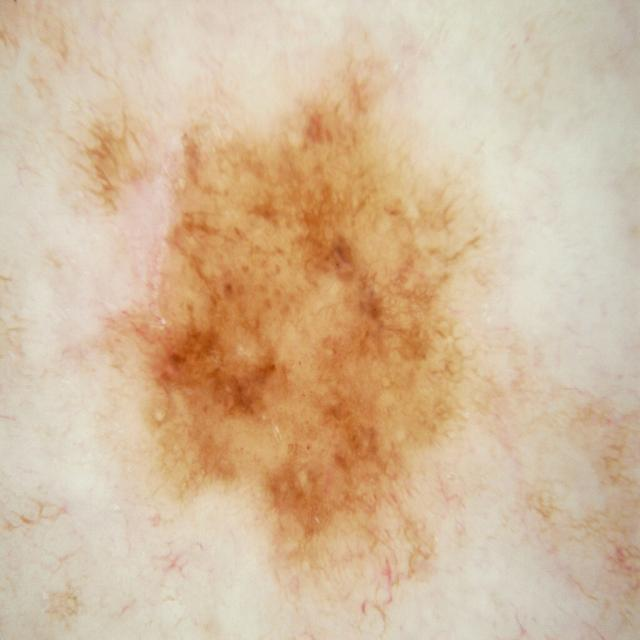Skin-Cancer Melanoma: (75, 54, 557, 640)
